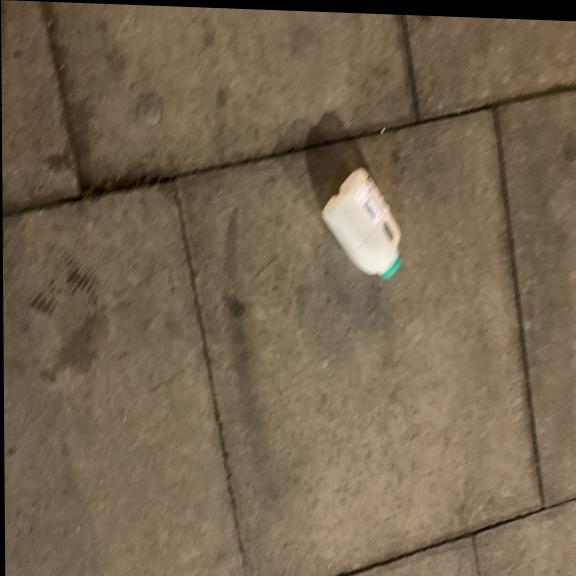Plastik: (321, 164, 402, 285)
